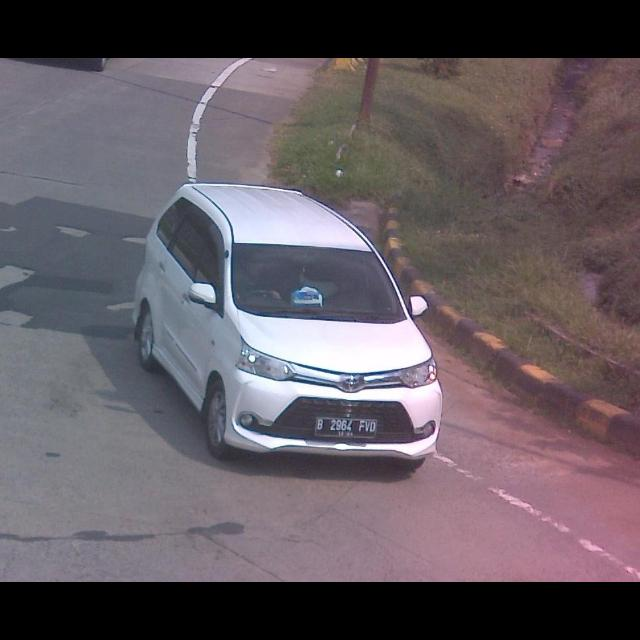plate: (314, 414, 382, 440)
